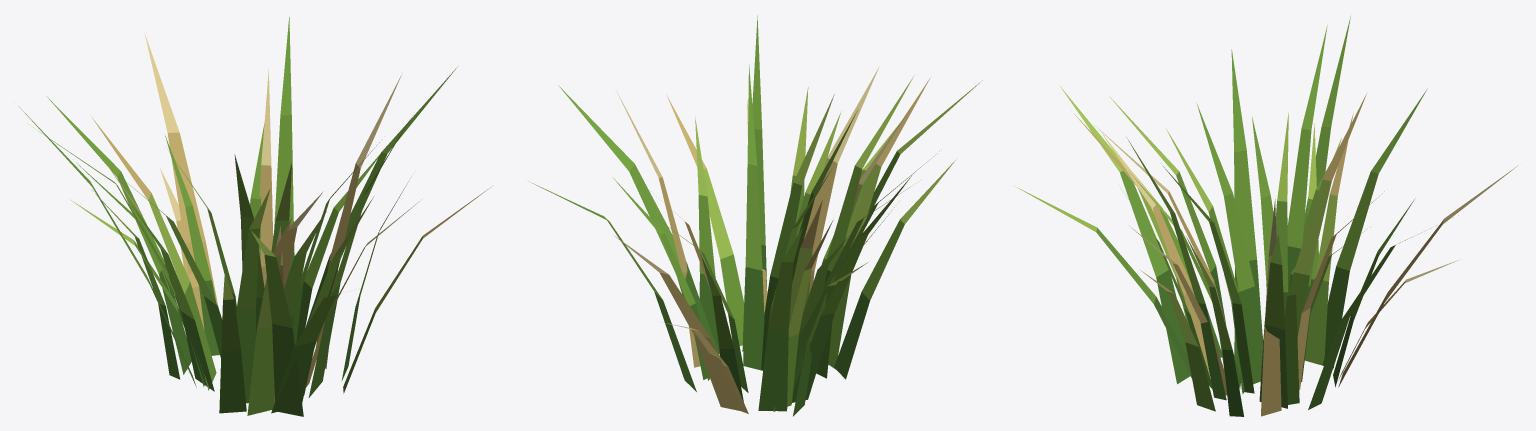
Rendered from G10_MixedGreenDryClump.glb.
The picture shows the model from 3 angles, left to right: view 1: azimuth 30°, elevation 25°; view 2: azimuth 150°, elevation 25°; view 3: azimuth 270°, elevation 25°; orthographic projection. The views are drawn at different scales.
Parts seen in each view (by area): view 1: G10_MixedGreenDryClump; view 2: G10_MixedGreenDryClump; view 3: G10_MixedGreenDryClump.
Part boxes in pixels (x1,y1,x2,y2): G10_MixedGreenDryClump: (18,17,490,416); G10_MixedGreenDryClump: (528,15,982,416); G10_MixedGreenDryClump: (1015,16,1518,416).
Bounding box in the file's own units: 1.86 × 1.34 × 2.12.
